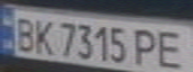1: (90, 23, 112, 62)
3: (72, 20, 93, 61)
5: (109, 24, 133, 65)
7: (54, 19, 78, 57)
B: (9, 14, 39, 53)
E: (151, 27, 190, 71)
K: (30, 16, 57, 55)
P: (130, 25, 163, 68)
